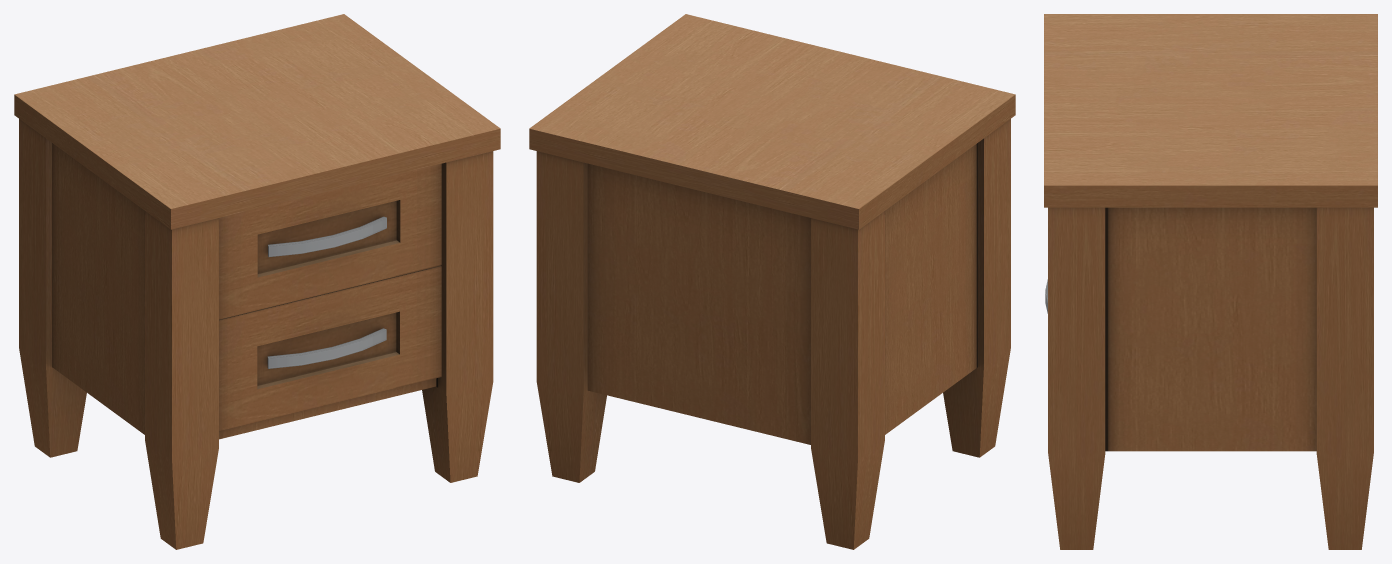
Rendered from Sun_0491_Bedside_table.fbx.
3 views of the same model, side by side, from view 1: azimuth 30°, elevation 25°; view 2: azimuth 150°, elevation 25°; view 3: azimuth 270°, elevation 25° (orthographic). The views are drawn at different scales.
Visible parts, largest first — view 1: Sun_0491_Bedside_table; view 2: Sun_0491_Bedside_table; view 3: Sun_0491_Bedside_table.
Boxes of the visible parts, left/top/right/bottom form: Sun_0491_Bedside_table: left=14, top=14, right=500, bottom=549; Sun_0491_Bedside_table: left=529, top=14, right=1015, bottom=549; Sun_0491_Bedside_table: left=1044, top=14, right=1377, bottom=549.
Bounding box in the file's own units: 68.61 × 69.46 × 56.42.
